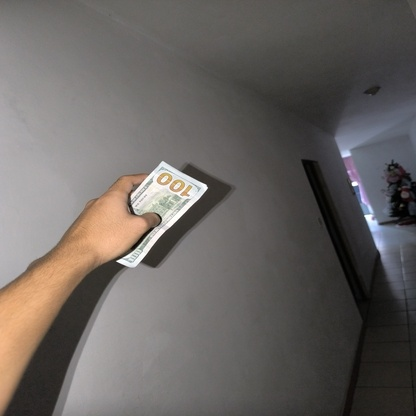one_hundred-back: (100, 157, 212, 269)
